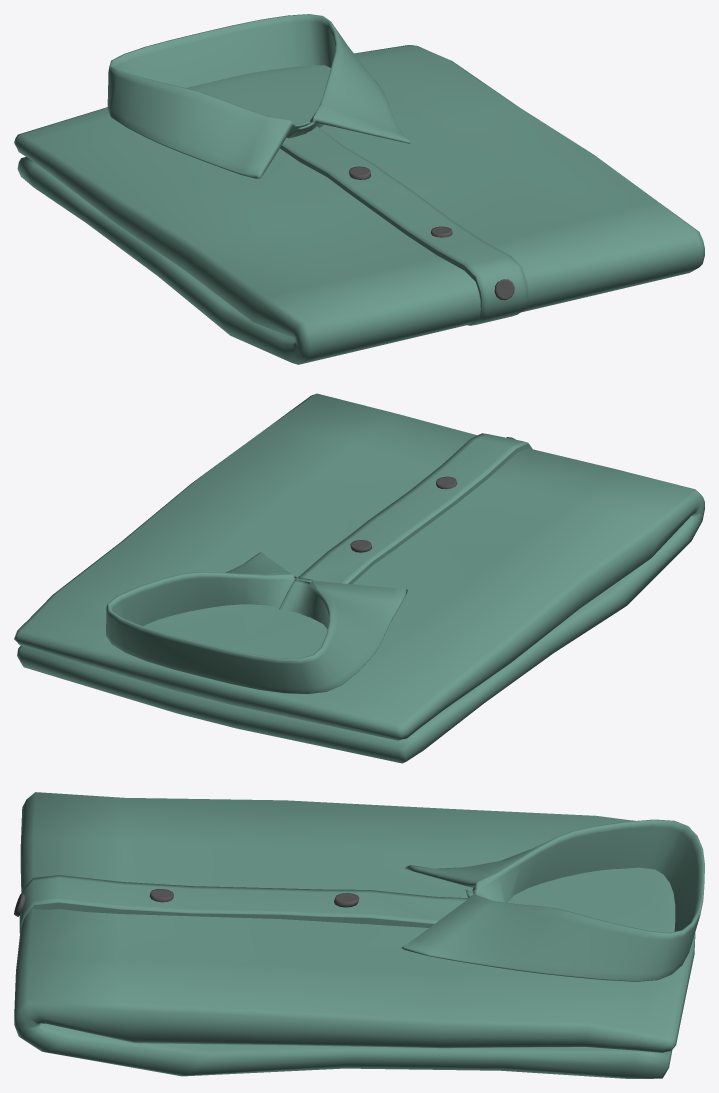
The model's file is Folded_Shirt22.fbx.
3 views of the same model, one above another, from view 1: azimuth 30°, elevation 25°; view 2: azimuth 150°, elevation 25°; view 3: azimuth 270°, elevation 25° (orthographic). The views are drawn at different scales.
Visible parts, largest first — view 1: Folded_Shirt22; view 2: Folded_Shirt22; view 3: Folded_Shirt22.
Part boxes in pixels (x1,y1,x2,y2): Folded_Shirt22: (14, 14, 704, 364); Folded_Shirt22: (14, 393, 704, 763); Folded_Shirt22: (14, 792, 704, 1078).
Bounding box in the file's own units: 24.94 × 5.51 × 33.25.
